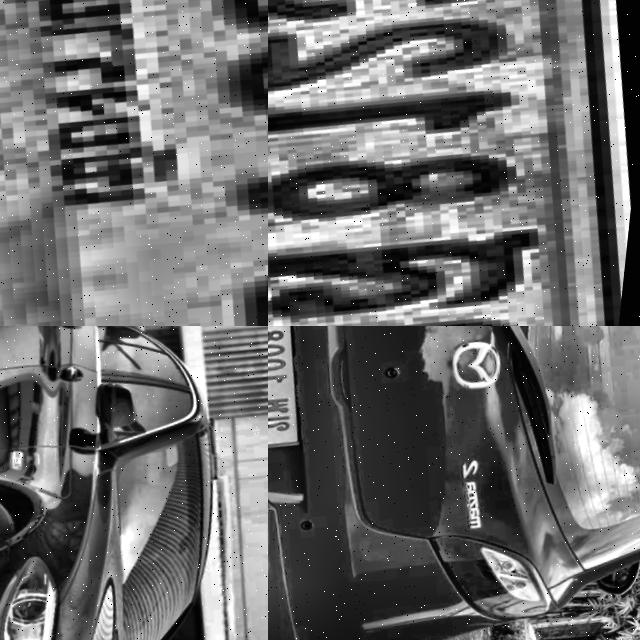license-plate: (268, 0, 640, 326), (0, 0, 268, 326), (268, 326, 319, 455)
